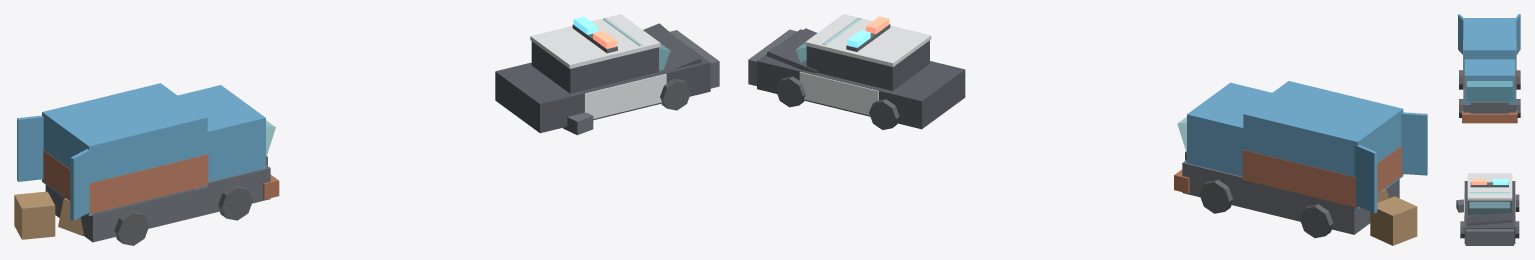
Rendered from approach_vehicles.glb.
The picture shows the model from 3 angles, left to right: view 1: azimuth 30°, elevation 25°; view 2: azimuth 150°, elevation 25°; view 3: azimuth 270°, elevation 25°; orthographic projection. The views are drawn at different scales.
Visible parts, largest first — view 1: Van_CargoBox, Cop_BodyLower, Van_Cabin, Van_CargoRust, Van_Chassis, Cop_RoofWhite, Cop_Cabin, Cop_WhiteDoors, Van_Crate3, Van_RearDoorL, Van_RearDoorR, Cop_HoodDented (+7 smaller); view 2: Van_CargoBox, Cop_BodyLower, Van_Cabin, Van_Chassis, Van_CargoRust, Cop_RoofWhite, Cop_Cabin, Cop_WhiteDoors, Van_Crate3, Van_RearDoorR, Van_RearDoorL, Cop_HoodDented (+5 smaller); view 3: Van_CargoBox, Van_Cabin, Cop_RoofWhite, Van_Windshield, Cop_BullBar, Cop_Windshield, Cop_BodyLower, Van_BumperF, Cop_Cabin, Van_Grille, Cop_HoodDented, Van_RearDoorR (+15 smaller).
Part boxes in pixels (x1=…): Van_CargoBox: x1=42, y1=83, x2=207, y2=216; Cop_BodyLower: x1=495, y1=39, x2=710, y2=133; Van_Cabin: x1=178, y1=85, x2=265, y2=182; Van_CargoRust: x1=41, y1=150, x2=208, y2=214; Van_Chassis: x1=45, y1=165, x2=270, y2=242; Cop_RoofWhite: x1=530, y1=14, x2=660, y2=68; Cop_Cabin: x1=531, y1=41, x2=658, y2=93; Cop_WhiteDoors: x1=584, y1=74, x2=666, y2=118; Van_Crate3: x1=14, y1=191, x2=55, y2=239; Van_RearDoorL: x1=17, y1=115, x2=43, y2=181; Van_RearDoorR: x1=70, y1=149, x2=90, y2=220; Cop_HoodDented: x1=643, y1=23, x2=701, y2=69; Van_CargoBox: x1=1243, y1=81, x2=1403, y2=209; Cop_BodyLower: x1=757, y1=29, x2=965, y2=129; Van_Cabin: x1=1187, y1=82, x2=1271, y2=176; Van_Chassis: x1=1182, y1=160, x2=1399, y2=234; Van_CargoRust: x1=1242, y1=146, x2=1403, y2=207; Cop_RoofWhite: x1=805, y1=14, x2=931, y2=66; Cop_Cabin: x1=806, y1=40, x2=929, y2=90; Cop_WhiteDoors: x1=799, y1=72, x2=878, y2=115; Van_Crate3: x1=1370, y1=196, x2=1417, y2=245; Van_RearDoorR: x1=1401, y1=112, x2=1427, y2=175; Van_RearDoorL: x1=1354, y1=144, x2=1377, y2=213; Cop_HoodDented: x1=766, y1=28, x2=817, y2=73; Van_CargoBox: x1=1463, y1=18, x2=1516, y2=71; Van_Cabin: x1=1464, y1=59, x2=1515, y2=103; Cop_RoofWhite: x1=1467, y1=173, x2=1512, y2=200; Van_Windshield: x1=1467, y1=81, x2=1512, y2=102; Cop_BullBar: x1=1465, y1=229, x2=1513, y2=245; Cop_Windshield: x1=1469, y1=192, x2=1510, y2=216; Cop_BodyLower: x1=1464, y1=181, x2=1515, y2=244; Van_BumperF: x1=1462, y1=110, x2=1517, y2=123; Cop_Cabin: x1=1468, y1=200, x2=1511, y2=214; Van_Grille: x1=1470, y1=101, x2=1508, y2=113; Cop_HoodDented: x1=1467, y1=210, x2=1512, y2=225; Van_RearDoorR: x1=1458, y1=14, x2=1463, y2=54.
Bounding box in the file's own units: 18.18 × 2.75 × 2.68.
